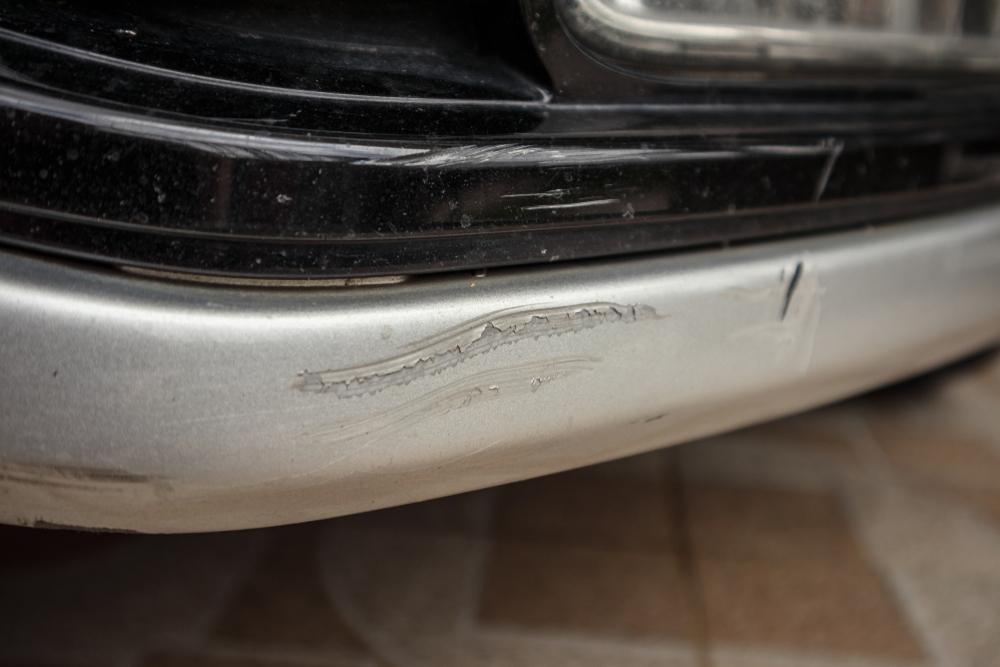scratch: (284, 295, 674, 452), (375, 143, 818, 213), (733, 255, 829, 373)
